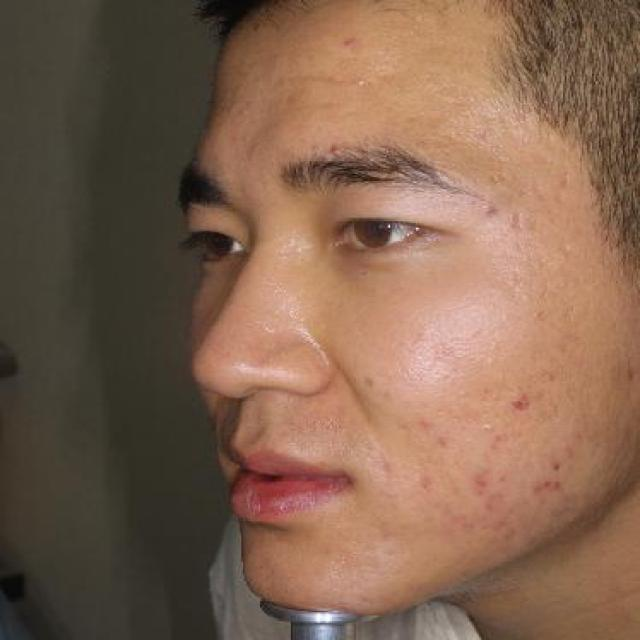papules: (508, 389, 538, 417), (342, 32, 361, 52)
